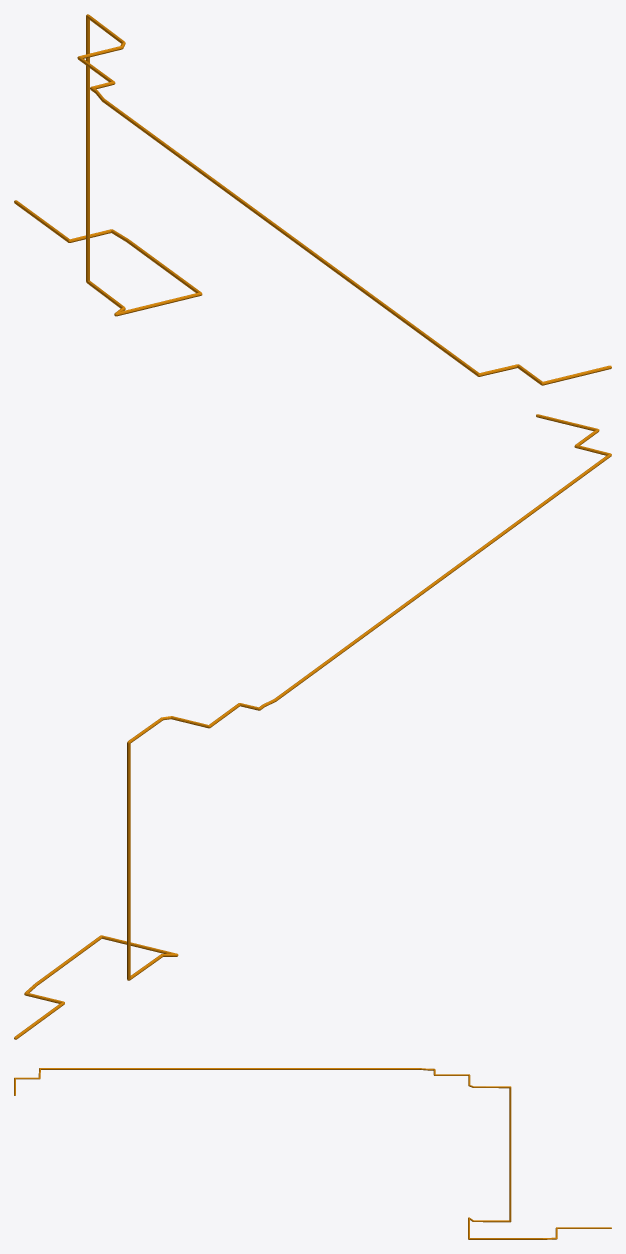
3 renders of one model, top to bottom at view 1: azimuth 30°, elevation 25°; view 2: azimuth 150°, elevation 25°; view 3: azimuth 270°, elevation 25°, orthographic. The views are drawn at different scales.
Bounding box in the file's own units: 885 × 1520 × 6063.
